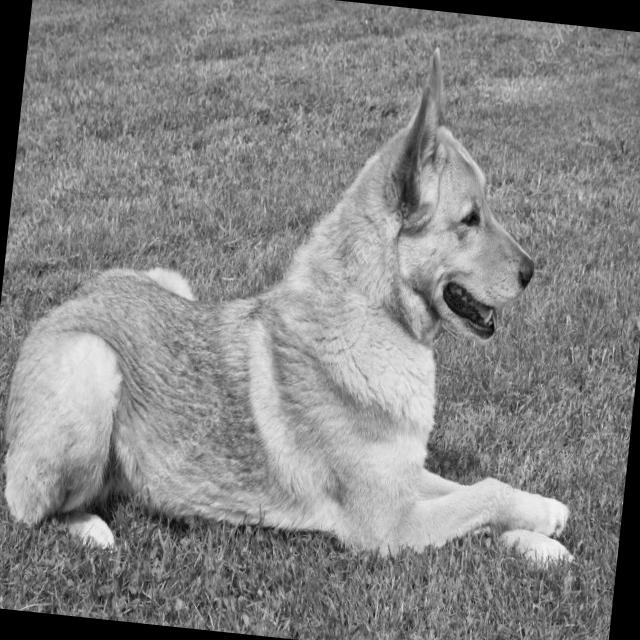laying down: (0, 1, 631, 601)
